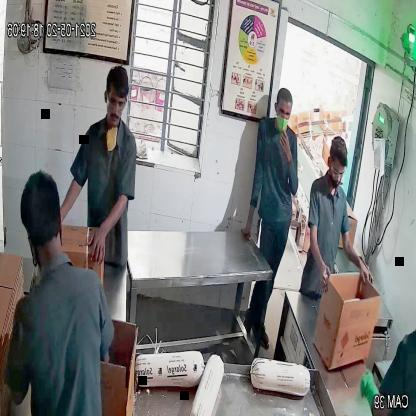goggles: (106, 98, 128, 115), (330, 162, 348, 178)
no_goggles: (275, 105, 292, 118)
